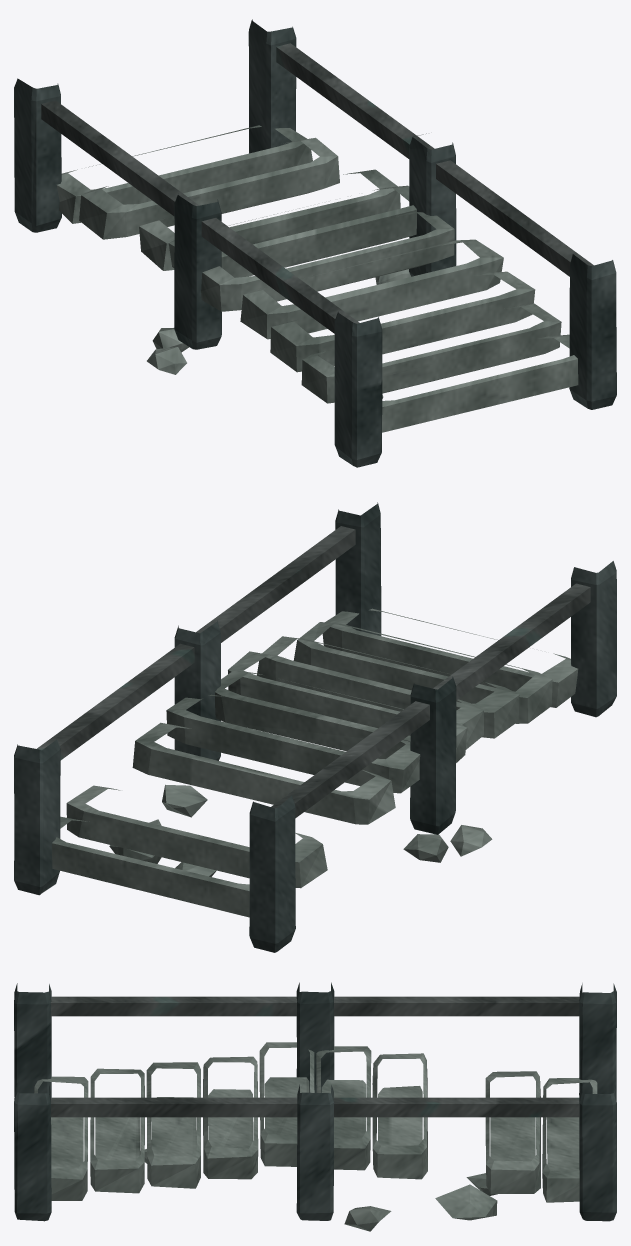
Rendered from 0390_ruined_bridge_15.glb.
The picture shows the model from 3 angles, top to bottom: view 1: azimuth 30°, elevation 25°; view 2: azimuth 150°, elevation 25°; view 3: azimuth 270°, elevation 25°; orthographic projection. The views are drawn at different scales.
Parts seen in each view (by area): view 1: stone, stone_dark, iron; view 2: stone, stone_dark, iron; view 3: stone, stone_dark, iron.
Boxes of the visible parts, x1,y1,x2,y2 form: stone: [56, 125, 578, 432]; stone_dark: [14, 19, 616, 467]; iron: [41, 43, 593, 333]; stone: [52, 608, 578, 917]; stone_dark: [14, 502, 616, 952]; iron: [37, 526, 590, 818]; stone: [34, 1042, 597, 1231]; stone_dark: [14, 982, 616, 1221]; iron: [51, 996, 579, 1117].
Bounding box in the file's own units: 2.06 × 1.11 × 4.08.
Materials: 3 (3 with a texture image).
